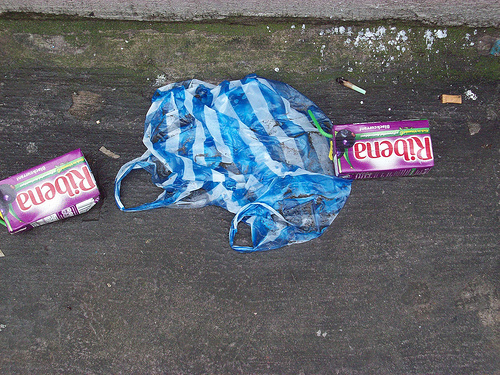litter: (112, 76, 350, 252), (304, 109, 434, 179), (332, 75, 367, 96), (435, 90, 464, 104)
